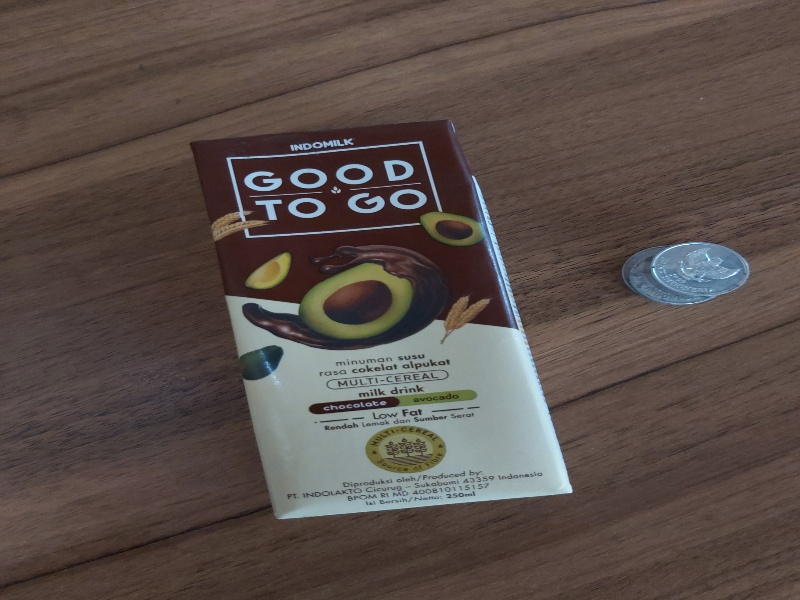cokelat: (187, 120, 575, 518)
